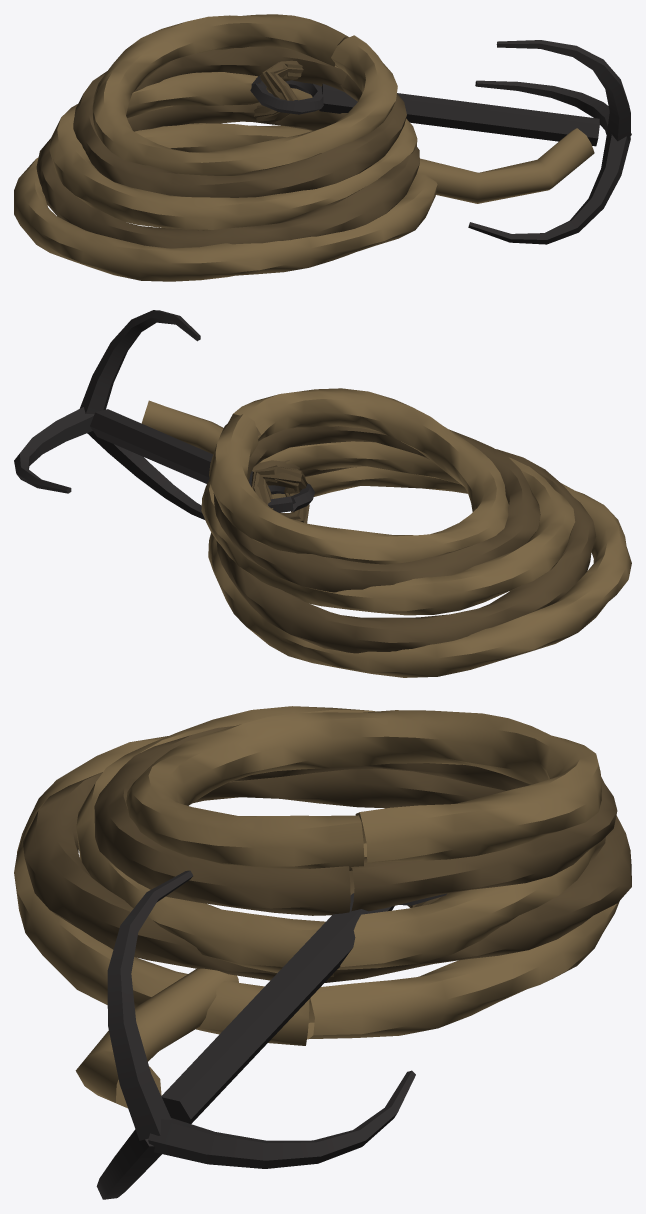
The model's file is hook.glb.
3 views of the same model, one above another, from view 1: azimuth 30°, elevation 25°; view 2: azimuth 150°, elevation 25°; view 3: azimuth 270°, elevation 25° (orthographic). The views are drawn at different scales.
Parts seen in each view (by area): view 1: hook; view 2: hook; view 3: hook.
Boxes of the visible parts, x1,y1,x2,y2 form: hook: (14,14,631,281); hook: (14,310,631,677); hook: (14,706,631,1199).
Size of the model in its own units: 0.5937 by 0.1981 by 0.3662.
